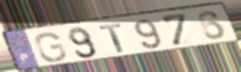6: (197, 10, 228, 41)
7: (159, 12, 191, 47)
9: (67, 26, 100, 60), (132, 18, 165, 50)
G: (34, 31, 68, 63)
T: (98, 22, 126, 54)
